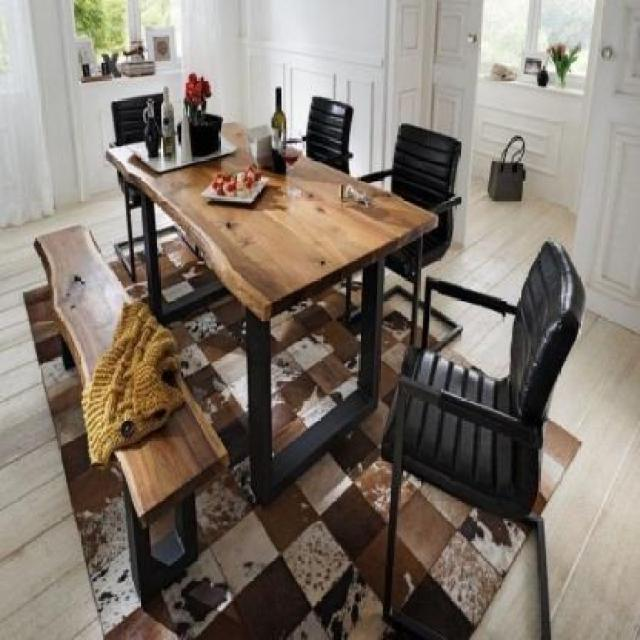tables: (105, 120, 440, 506)
